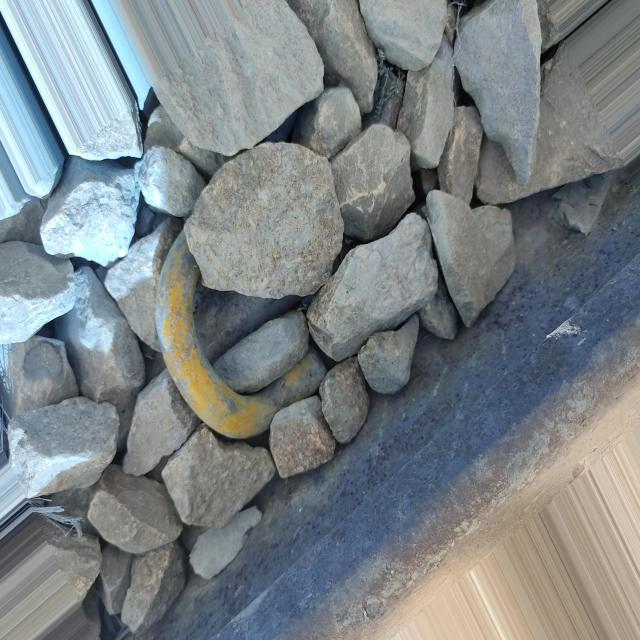Good Fasteners: (156, 231, 326, 439)
